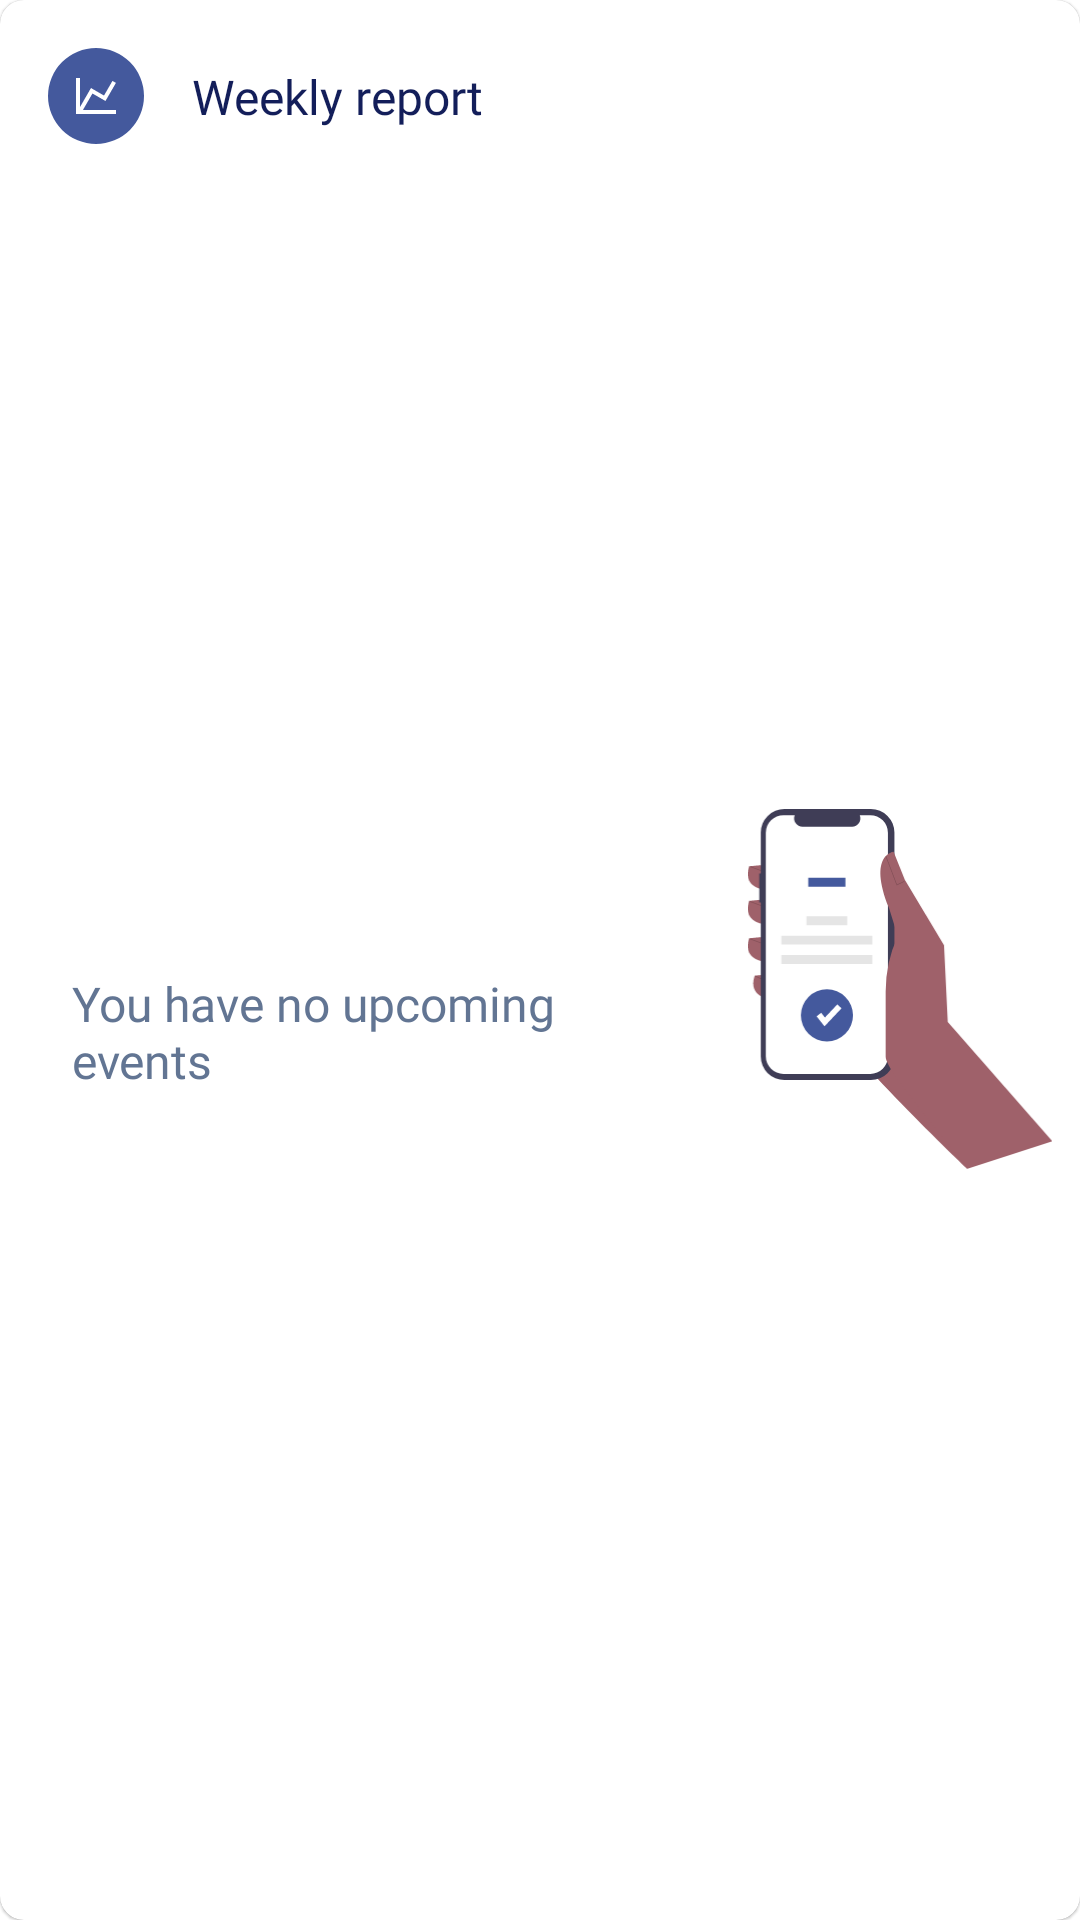

Named icons in this screenshot (1080px x 1920px) and their bounding boxes, [x1,y1,x2,y2]:
Your average: [76,78,116,114]
